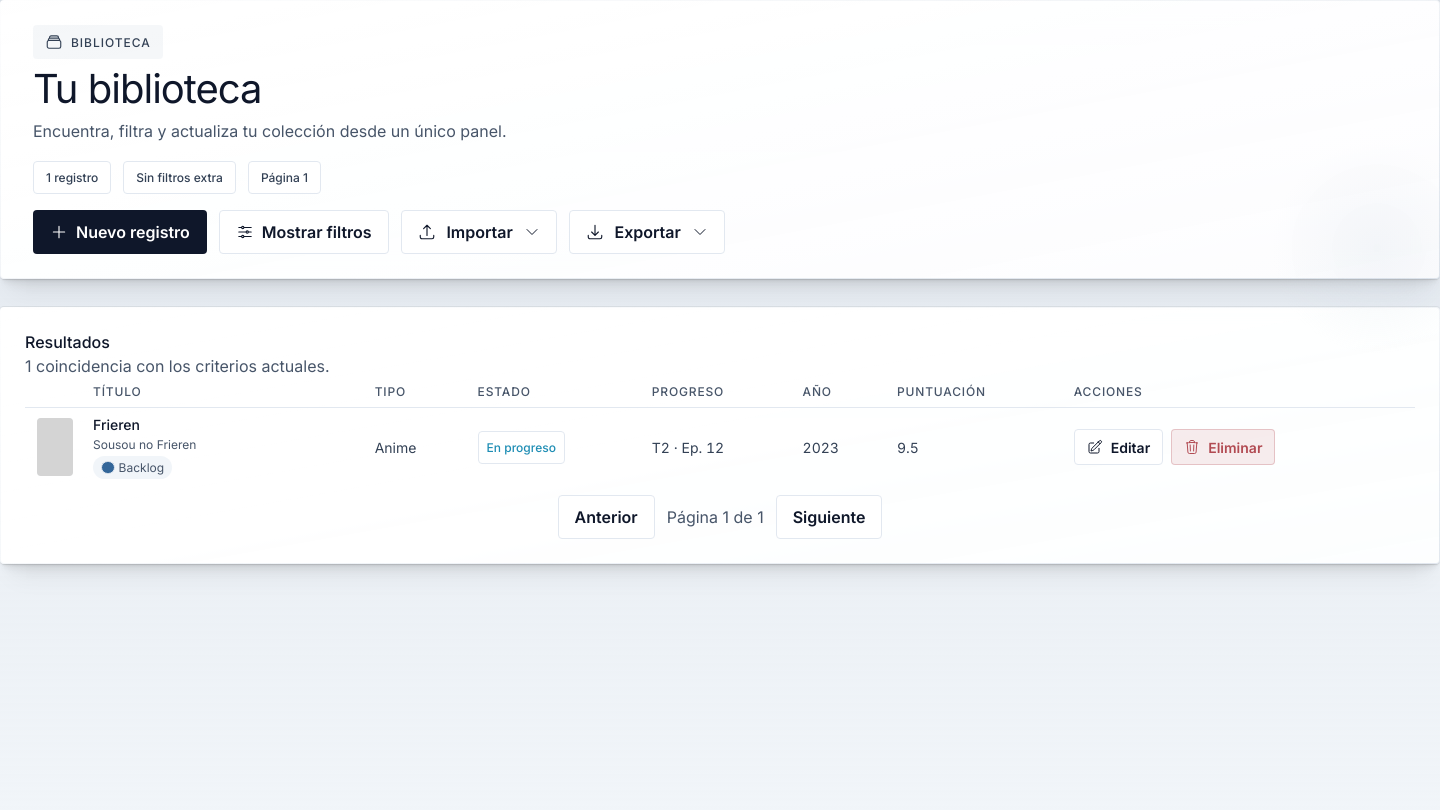
Test: LibraryView › exports the library from the transfer dropdown
Click the button "Exportar" at (647, 232), box [569, 210, 725, 254]
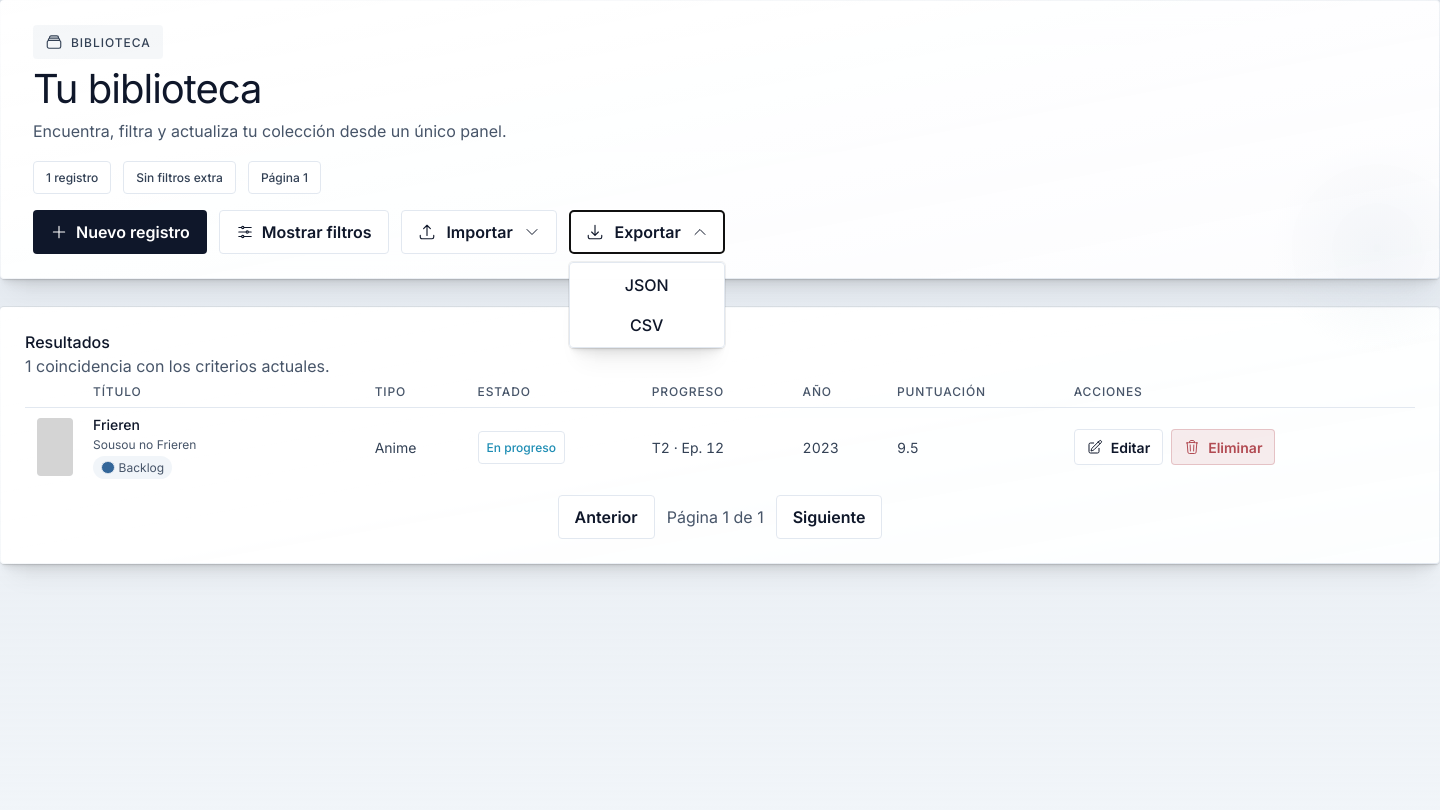
Click the menu item "JSON" at (647, 285), box [574, 267, 720, 303]
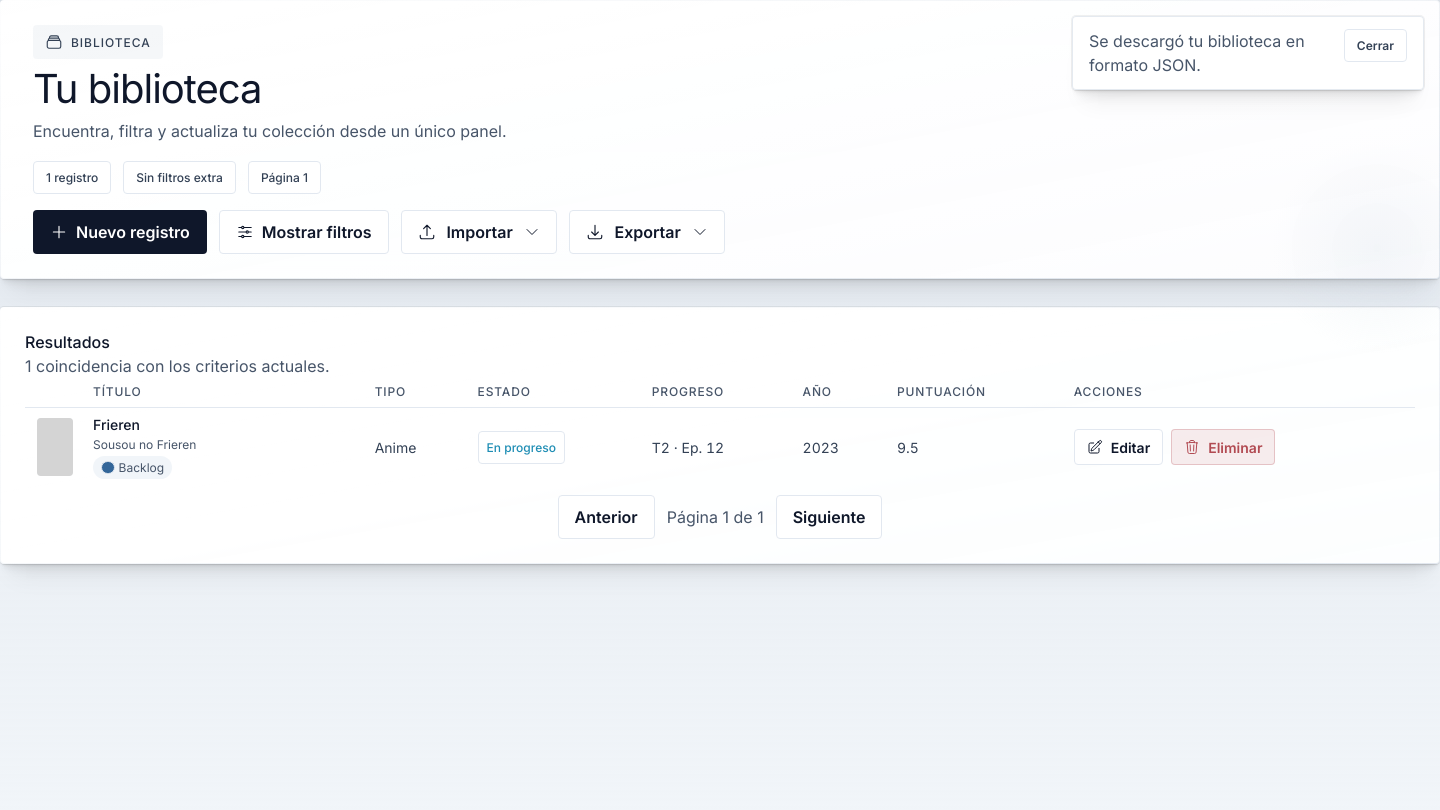
Check: the text "Se descargó tu biblioteca en formato JSON." is shown, box [1089, 29, 1332, 77]
